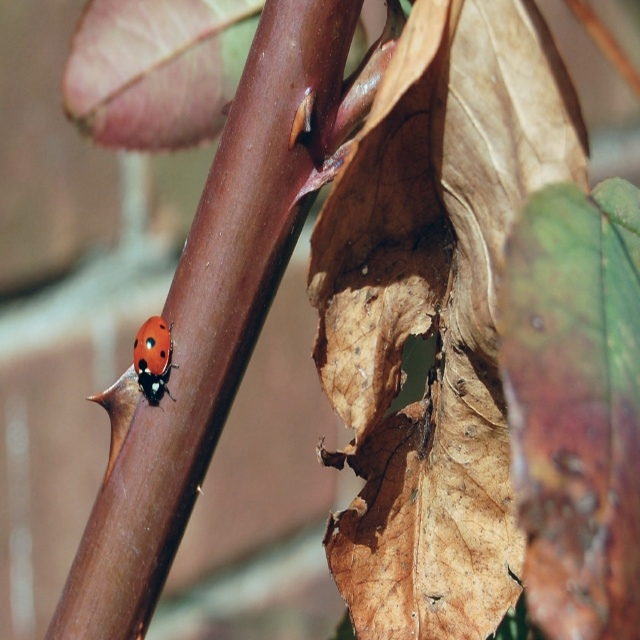Ladybug: (132, 314, 182, 408)
